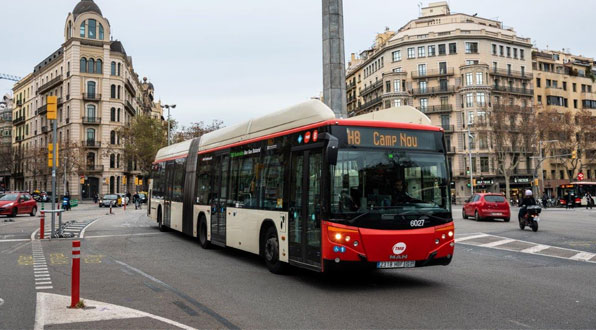bus: (147, 98, 454, 277)
passenger: (462, 191, 510, 223)
